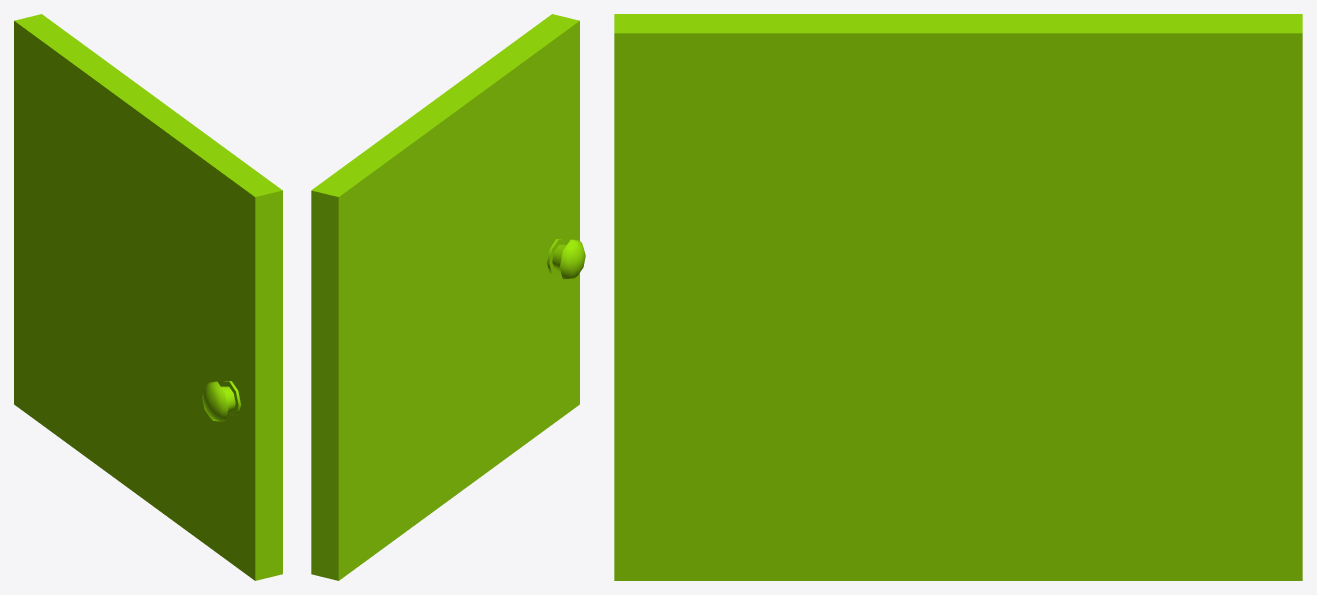
The model's file is Bookcase_02_Left_Door.fbx.
3 renders of one model, left to right at view 1: azimuth 30°, elevation 25°; view 2: azimuth 150°, elevation 25°; view 3: azimuth 270°, elevation 25°, orthographic. The views are drawn at different scales.
Visible parts, largest first — view 1: Bookcase_02_Left_Door; view 2: Bookcase_02_Left_Door; view 3: Bookcase_02_Left_Door.
Part boxes in pixels (x1,y1,x2,y2): Bookcase_02_Left_Door: (14,14,282,580); Bookcase_02_Left_Door: (311,14,585,580); Bookcase_02_Left_Door: (614,14,1302,580).
Bounding box in the file's own units: 8.58 × 59.9 × 68.2.
